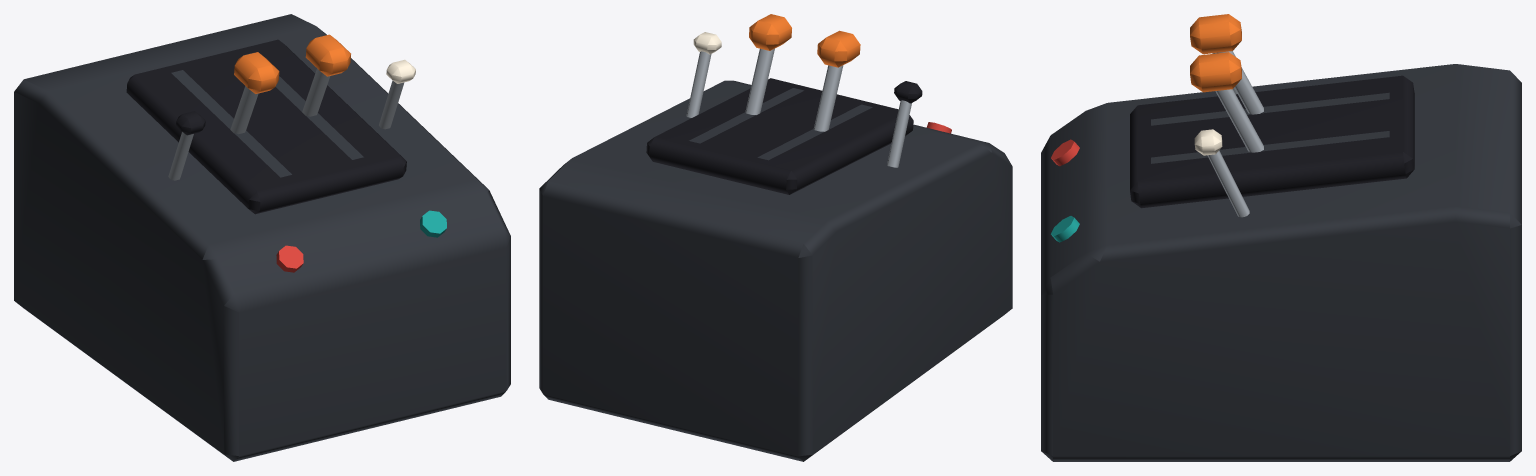
File: Gases.fbx
The picture shows the model from 3 angles, left to right: view 1: azimuth 30°, elevation 25°; view 2: azimuth 150°, elevation 25°; view 3: azimuth 270°, elevation 25°; orthographic projection. The views are drawn at different scales.
Visible parts, largest first — view 1: Gases; view 2: Gases; view 3: Gases.
Part boxes in pixels (left/top/right/bottom): Gases: left=14, top=14, right=510, bottom=461; Gases: left=539, top=14, right=1012, bottom=461; Gases: left=1041, top=14, right=1521, bottom=461.
Size of the model in its own units: 1.2 by 1.3 by 1.6.
1 material, 1 textured.
